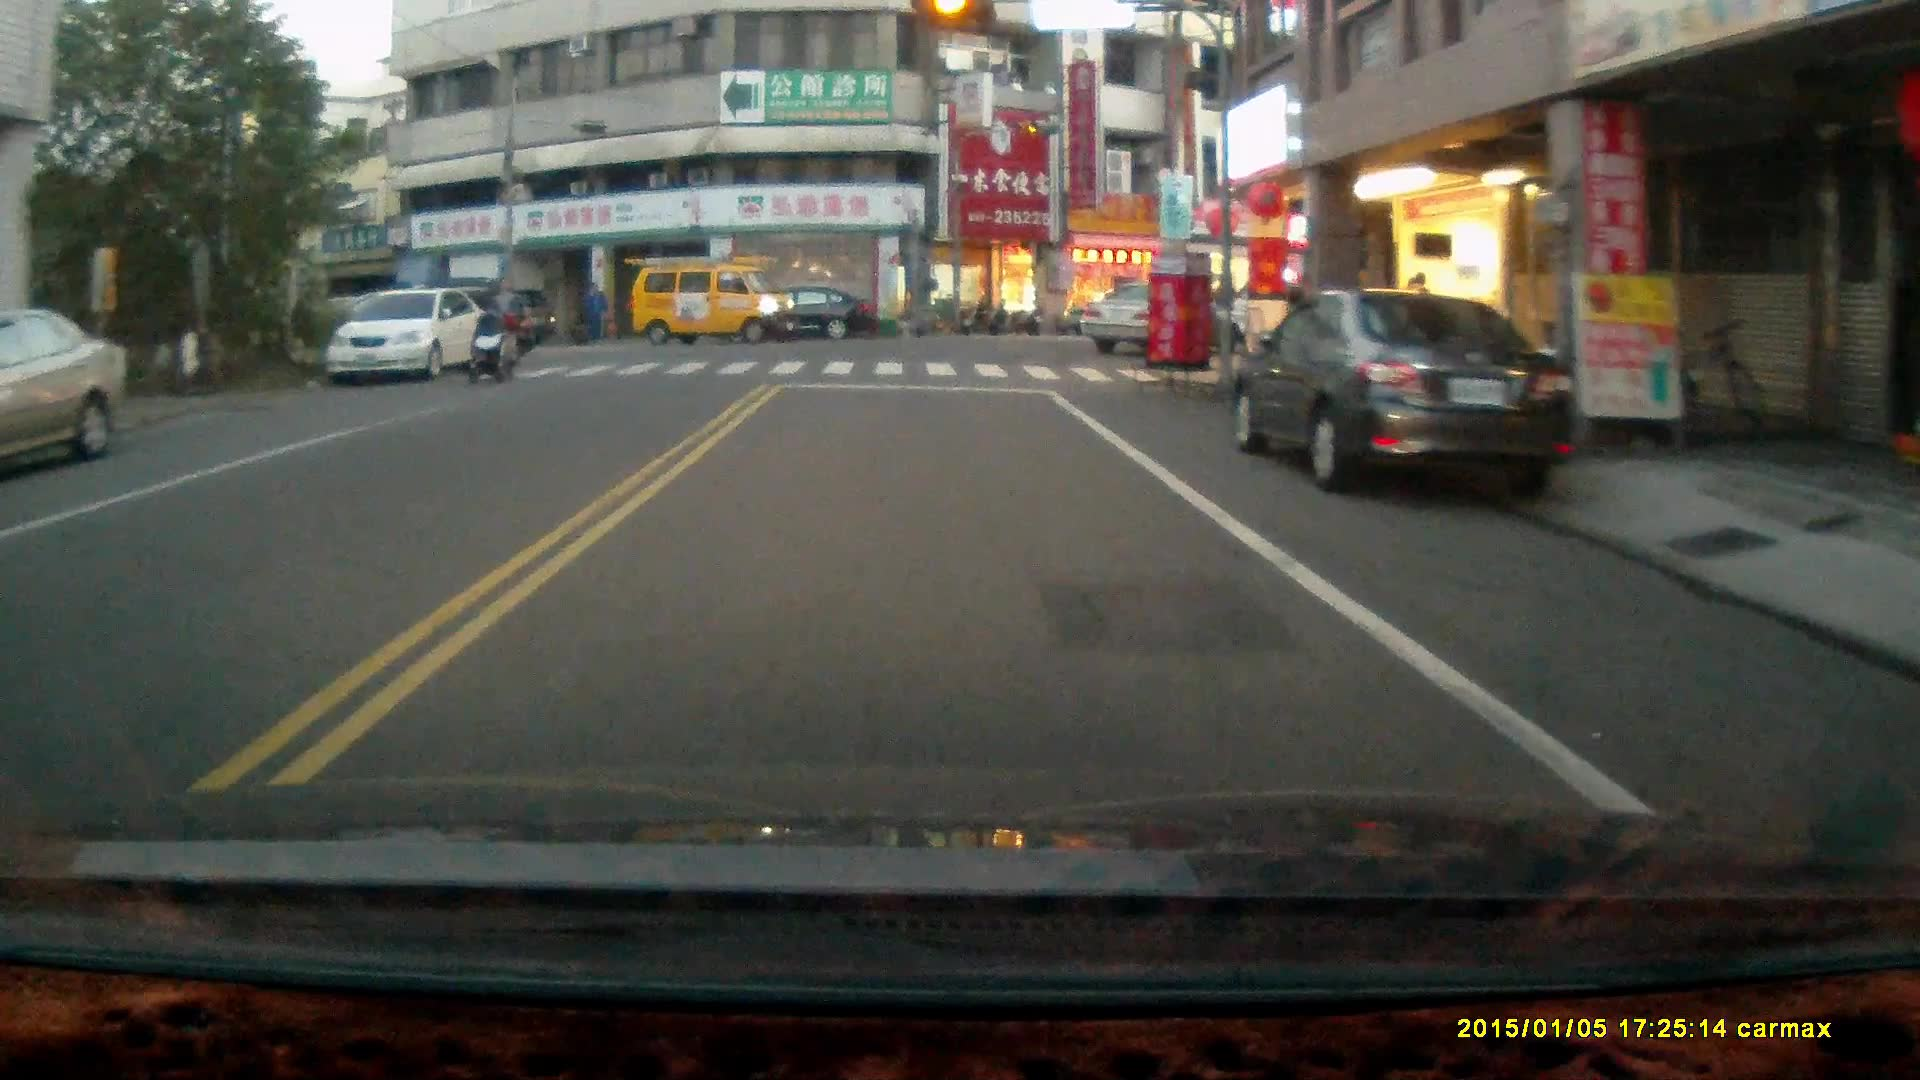pedestrian: (486, 275, 517, 364), (580, 277, 605, 342)
rider: (462, 310, 518, 386)
vehicle: (1231, 288, 1582, 500), (1, 297, 127, 472), (326, 288, 492, 386), (629, 257, 801, 349), (1076, 278, 1230, 354), (737, 285, 880, 346)
